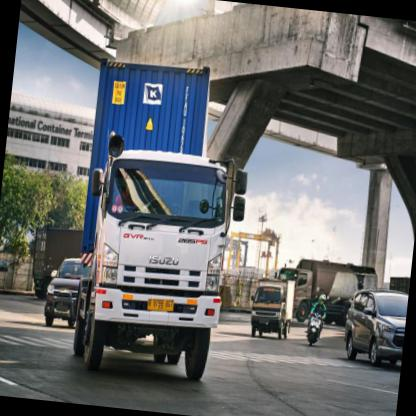truck: (79, 144, 240, 391)
